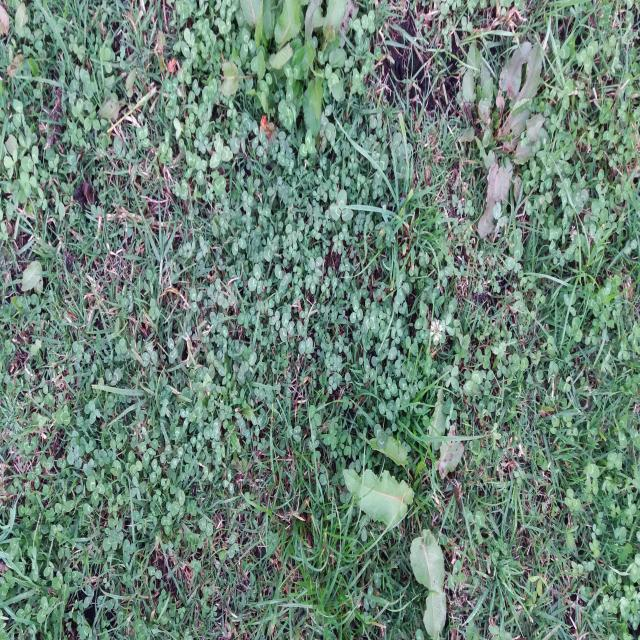Four Leaf Clover: (258, 206, 271, 229)
